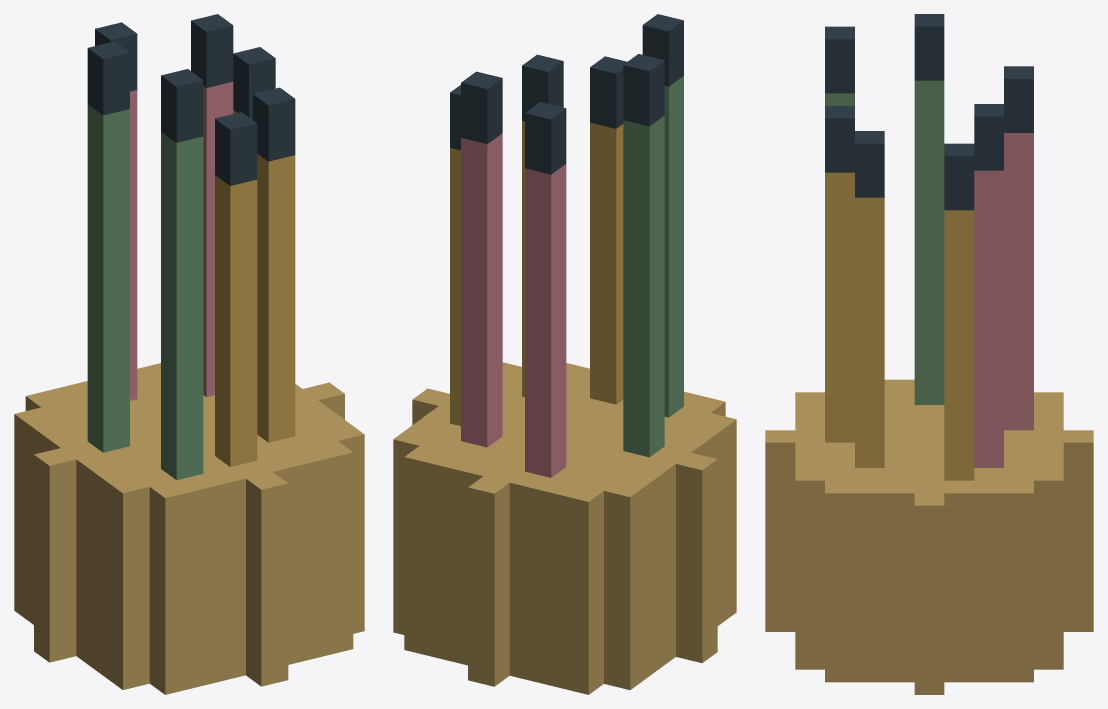
The model's file is education-06.glb.
3 renders of one model, left to right at view 1: azimuth 30°, elevation 25°; view 2: azimuth 150°, elevation 25°; view 3: azimuth 270°, elevation 25°, orthographic. The views are drawn at different scales.
Parts seen in each view (by area): view 1: Pencil cup; view 2: Pencil cup; view 3: Pencil cup.
Part boxes in pixels (x1,y1,x2,y2): Pencil cup: [14, 14, 364, 694]; Pencil cup: [393, 14, 736, 694]; Pencil cup: [765, 14, 1093, 694].
Bounding box in the file's own units: 0.88 × 1.68 × 0.88.
